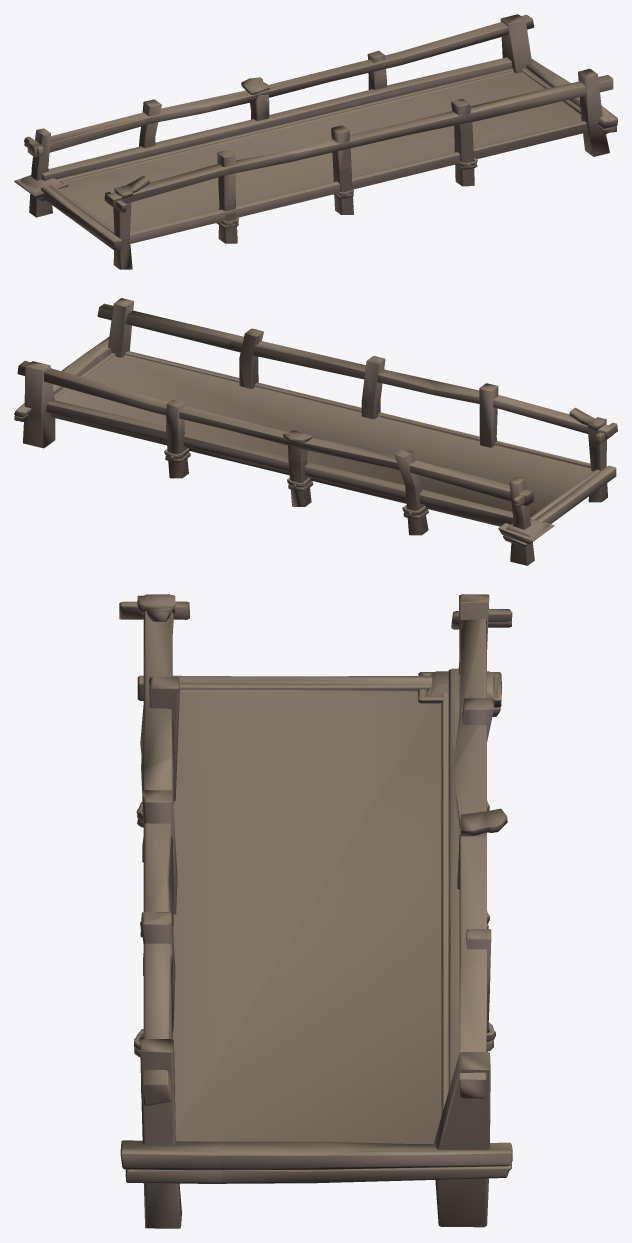
Rendered from gallery.glb.
3 views of the same model, one above another, from view 1: azimuth 30°, elevation 25°; view 2: azimuth 150°, elevation 25°; view 3: azimuth 270°, elevation 25° (orthographic). The views are drawn at different scales.
Visible parts, largest first — view 1: Smart_gallery; view 2: Smart_gallery; view 3: Smart_gallery.
Boxes of the visible parts, bbox=[...] form: Smart_gallery: bbox=[14, 14, 617, 269]; Smart_gallery: bbox=[14, 298, 617, 565]; Smart_gallery: bbox=[119, 594, 512, 1228].
Size of the model in its own units: 6 by 1 by 2.
